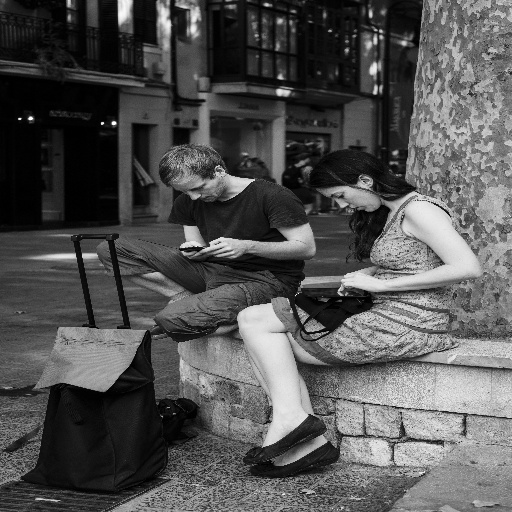hand: (198, 236, 246, 259), (340, 271, 381, 293), (176, 237, 211, 262)
